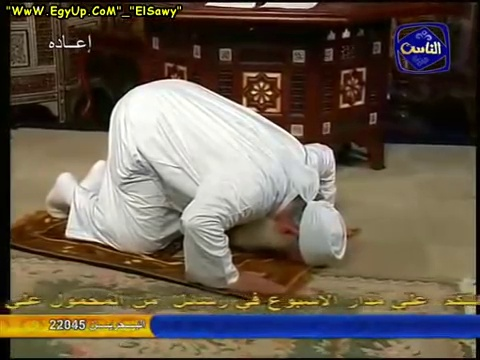sujud: (40, 78, 349, 295)
